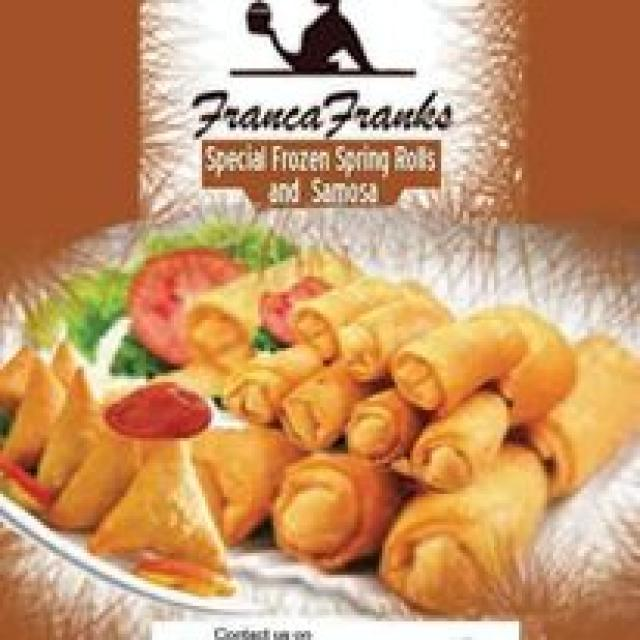Samosa: (2, 324, 226, 610)
Spring Rolls: (183, 226, 634, 600)
